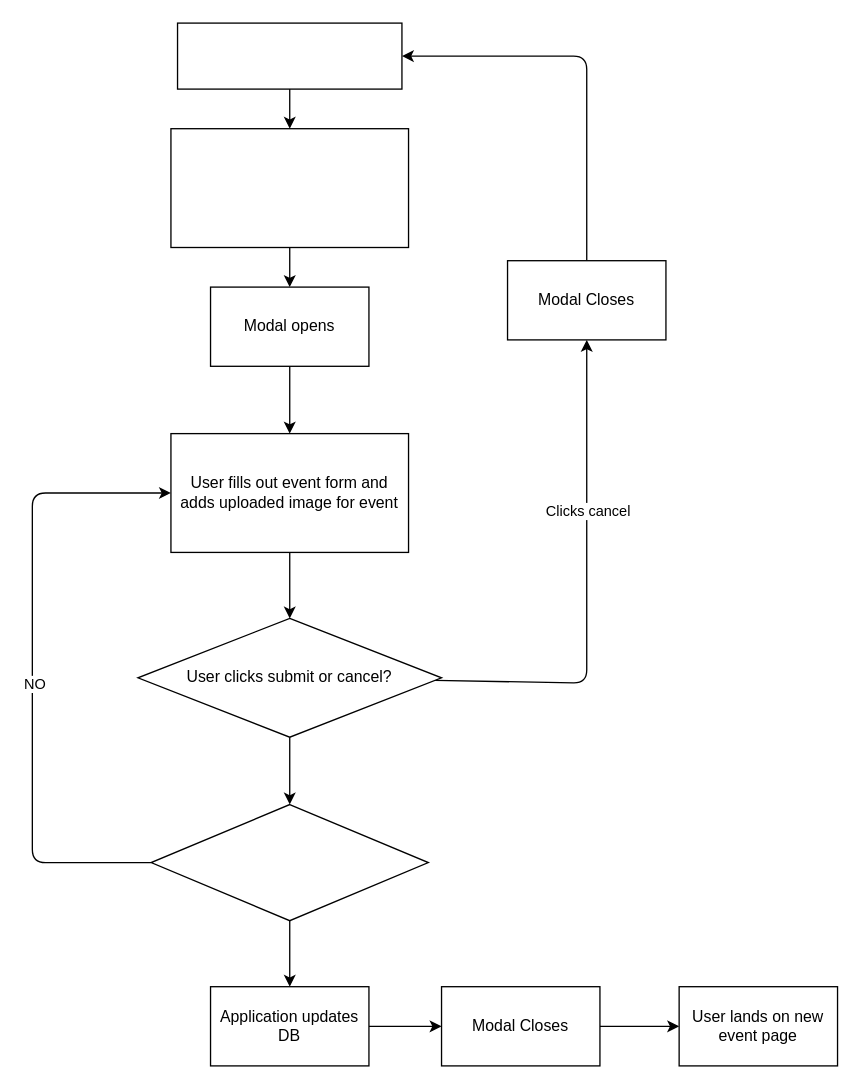
Image size: 861x1089. Some labels were removed from this diagram. The box of each missing label's shape, as (x1, y1, x2, y2) in pixels:
Form input are valid?: (150, 803, 428, 921)
User clicks on create new event button: (170, 127, 409, 248)
User is on events page: (176, 22, 402, 89)
